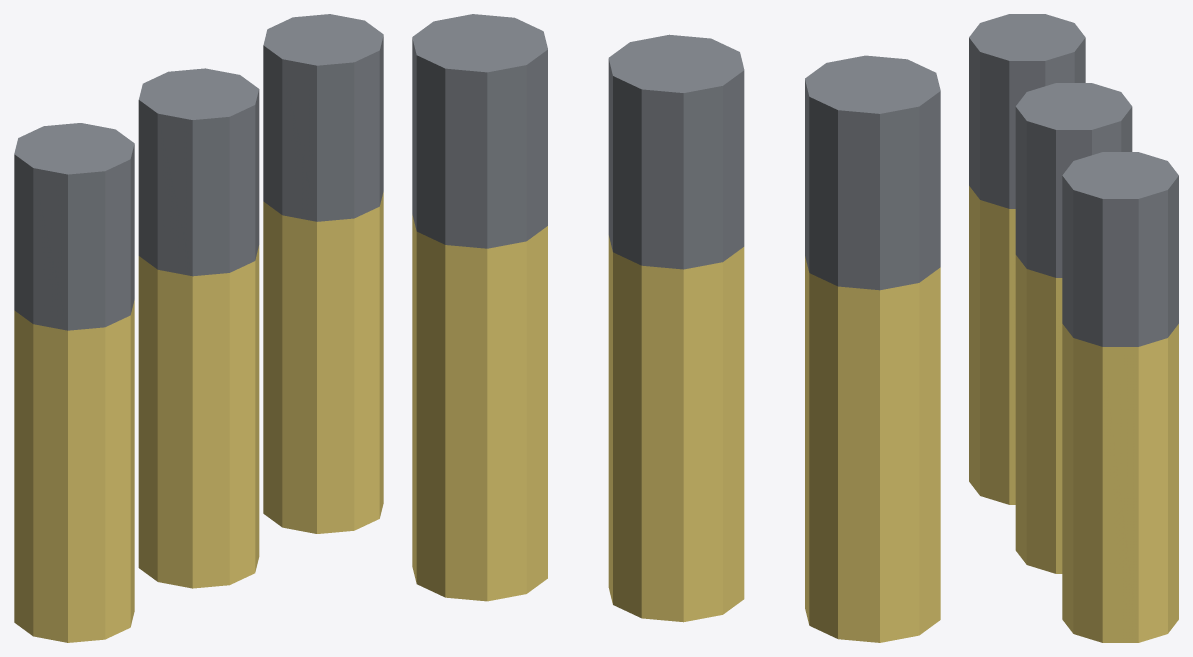
The model's file is AmmoHollow.fbx.
The picture shows the model from 3 angles, left to right: view 1: azimuth 30°, elevation 25°; view 2: azimuth 150°, elevation 25°; view 3: azimuth 270°, elevation 25°; orthographic projection. The views are drawn at different scales.
Visible parts, largest first — view 1: Body; view 2: Body; view 3: Body.
Part boxes in pixels (left/top/right/bottom): Body: left=14, top=14, right=383, bottom=642; Body: left=412, top=14, right=940, bottom=642; Body: left=969, top=14, right=1178, bottom=642.
Bounding box in the file's own units: 0.1876 × 0.21 × 0.09.
